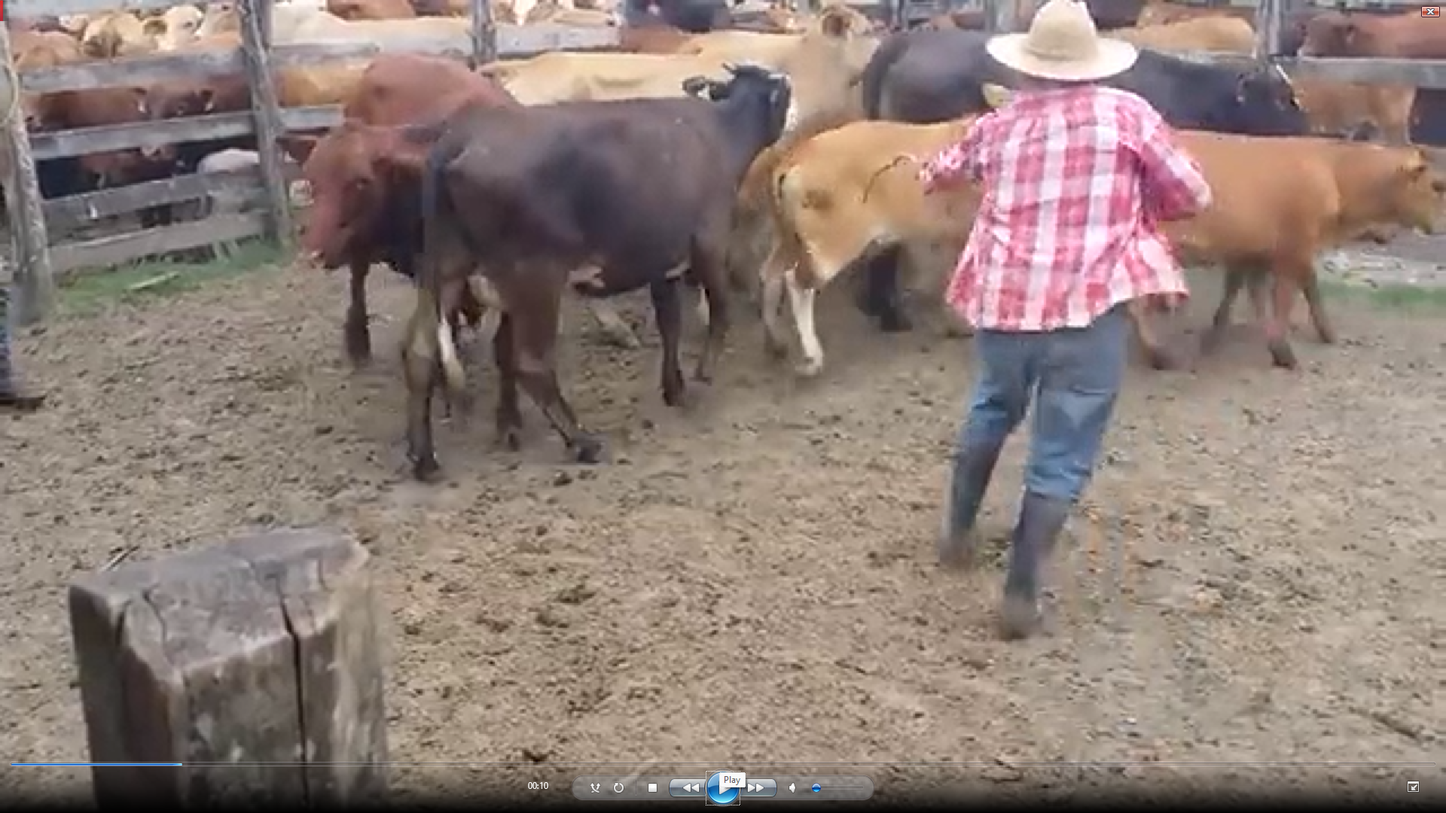bovino: (401, 72, 795, 478), (278, 36, 450, 371)
